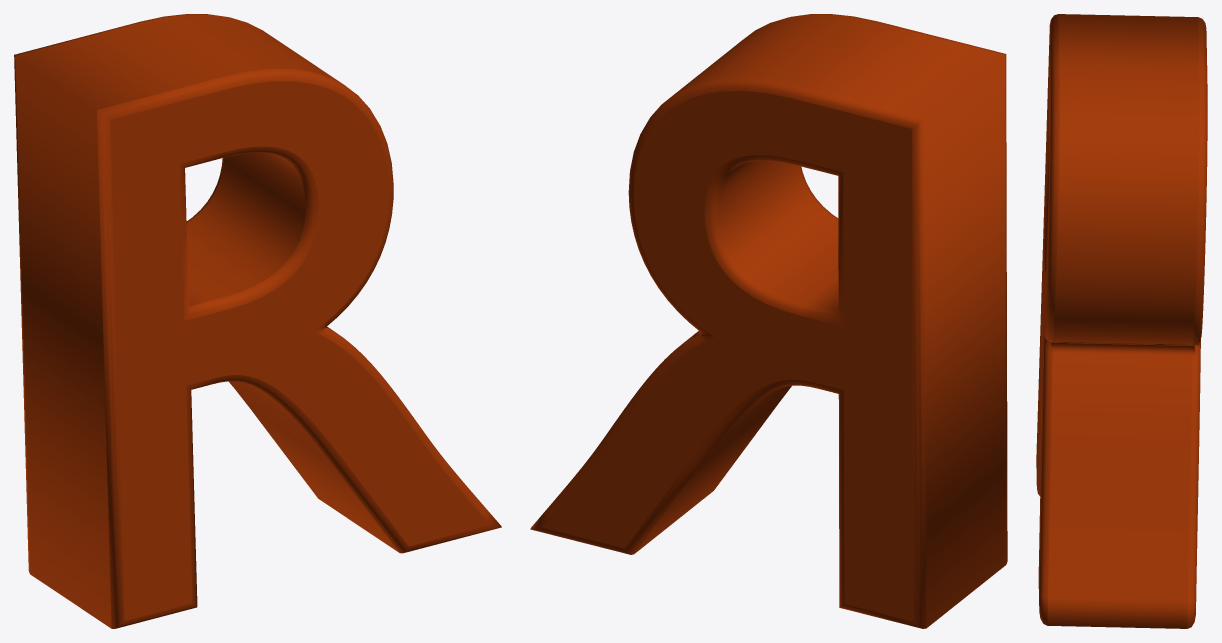
File: letters_R.obj
3 views of the same model, side by side, from view 1: azimuth 30°, elevation 25°; view 2: azimuth 150°, elevation 25°; view 3: azimuth 270°, elevation 25° (orthographic). The views are drawn at different scales.
Visible parts, largest first — view 1: Text; view 2: Text; view 3: Text.
Part boxes in pixels (box(x1,y1,x2,y2)): Text: box(14, 14, 501, 628); Text: box(530, 14, 1007, 628); Text: box(1036, 14, 1207, 628).
Bounding box in the file's own units: 0.5736 × 0.7138 × 0.2449.
